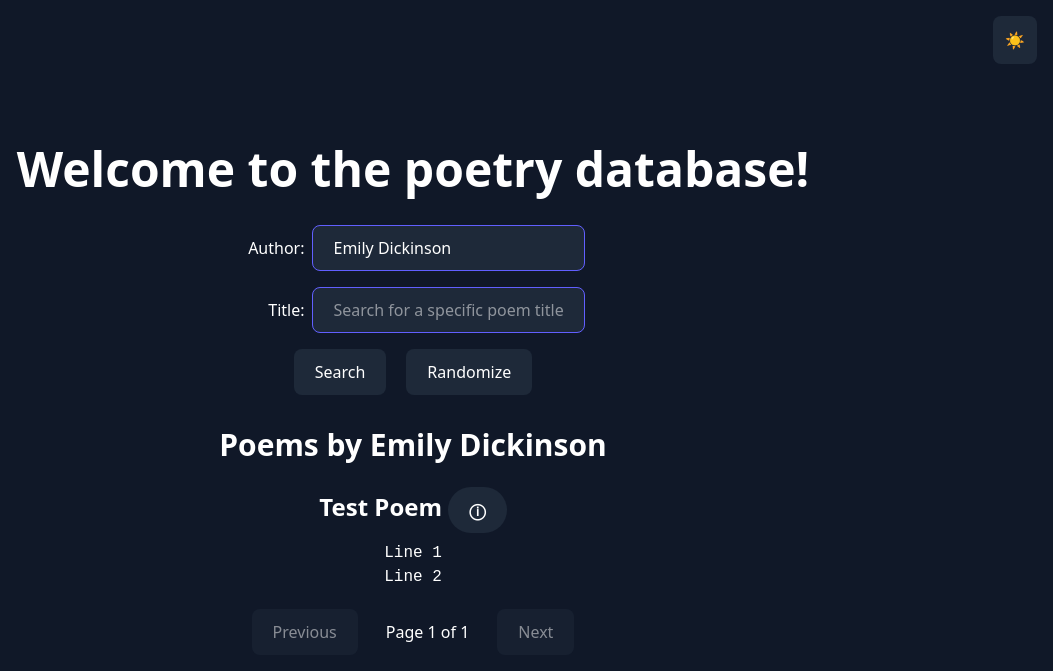
Scenario: App › returns to results when Back button is clicked
Check: the heading "Test Poem ⓘ" is shown, box top-left (319, 487), bottom-right (507, 533)
Click the button named "more details" at (477,510), box top-left (448, 487), bottom-right (507, 533)
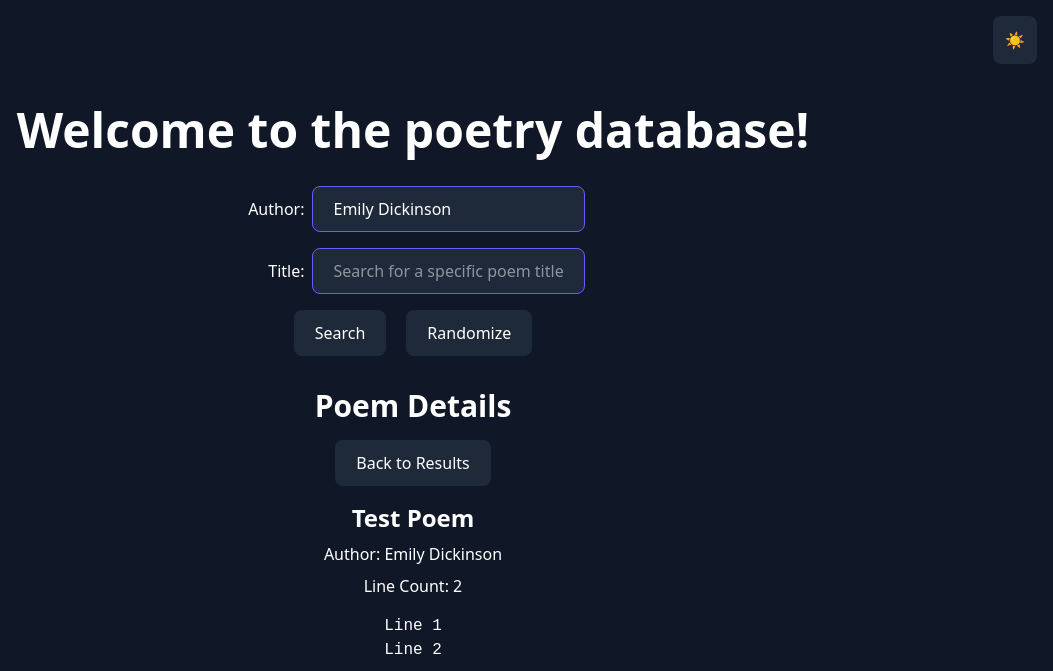
Click the button "Back to Results" at (413,463), box top-left (335, 440), bottom-right (491, 486)
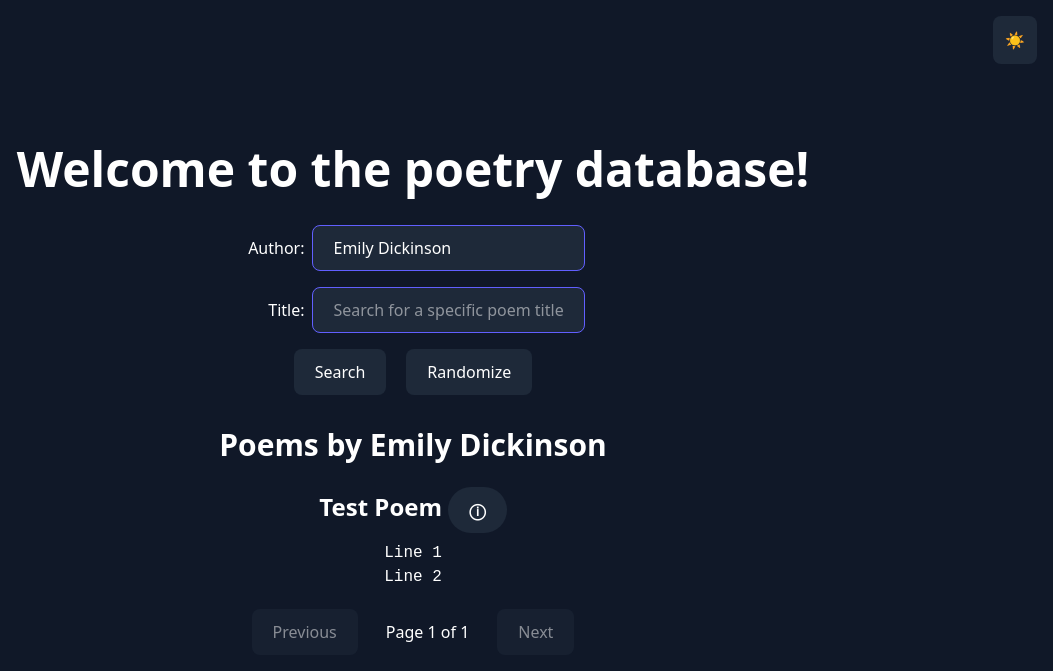
Check: the heading "Poem Details" is gone
